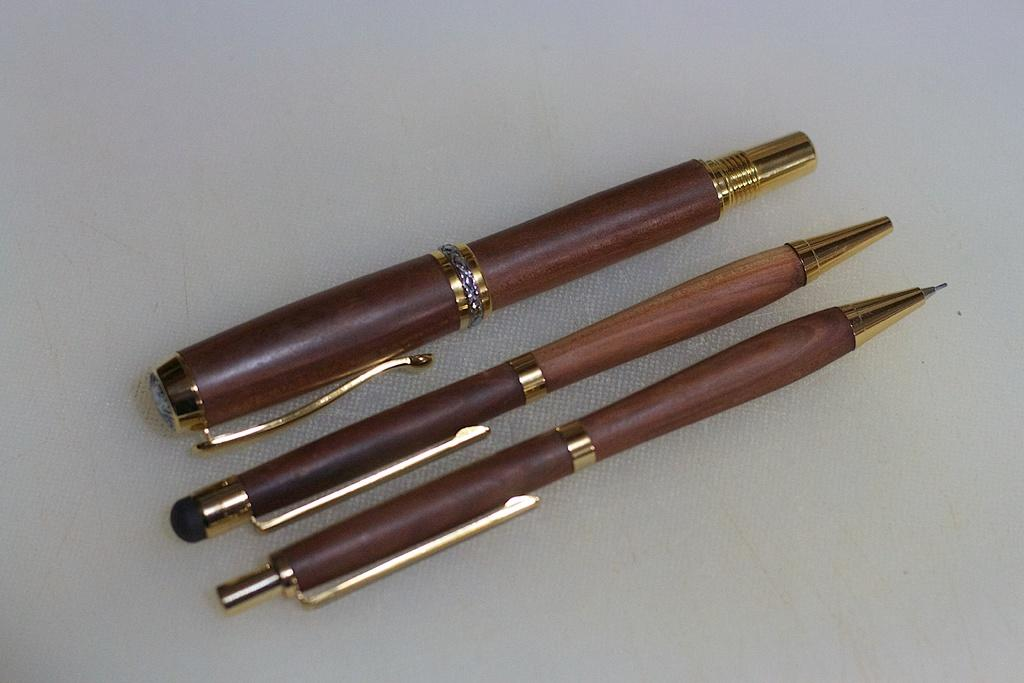pen: (163, 211, 900, 546), (139, 120, 817, 458)
